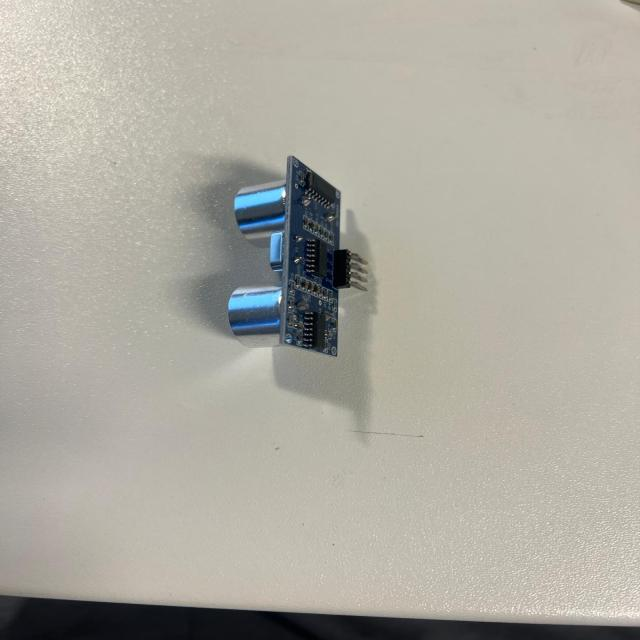UltrasoneSensor: (210, 157, 382, 371)
